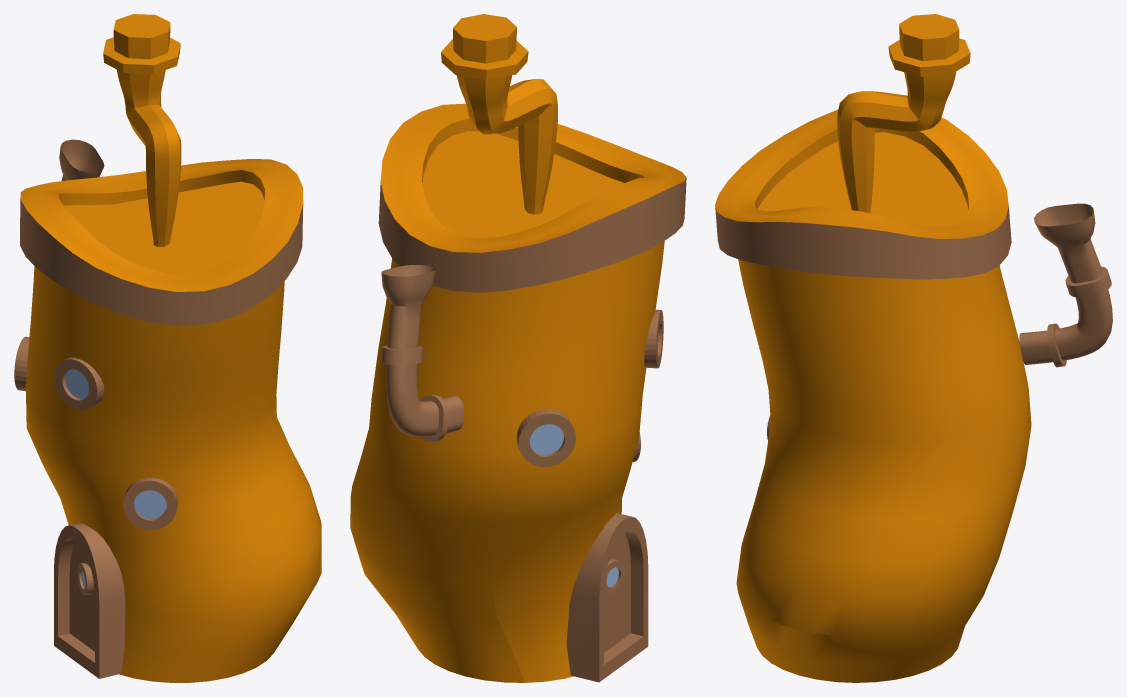
File: Mofle_Naranja.fbx
3 views of the same model, side by side, from view 1: azimuth 30°, elevation 25°; view 2: azimuth 150°, elevation 25°; view 3: azimuth 270°, elevation 25° (orthographic). The views are drawn at different scales.
Visible parts, largest first — view 1: Circle.007; view 2: Circle.007; view 3: Circle.007.
Boxes of the visible parts, x1,y1,x2,y2 form: Circle.007: (14,14,321,682); Circle.007: (350,14,686,682); Circle.007: (715,14,1112,682).
Size of the model in its own units: 11.54 by 24.04 by 14.16.
